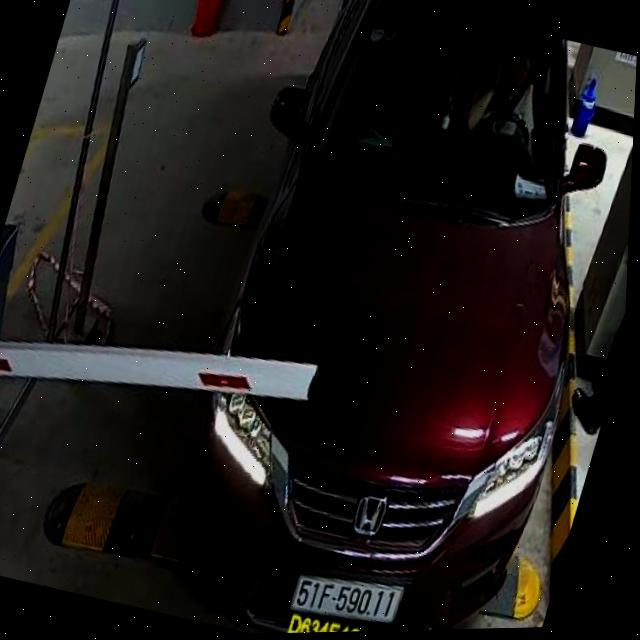car: (128, 0, 640, 637)
plate: (283, 565, 403, 632)
